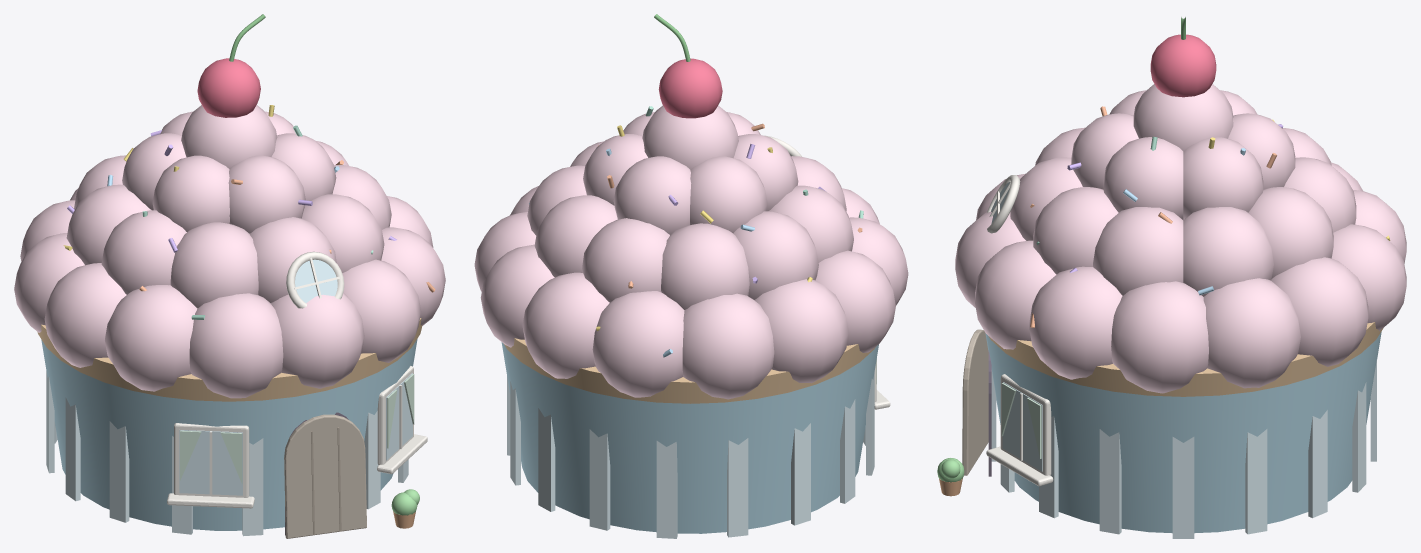
Rendered from building_sweets_L05.glb.
3 renders of one model, left to right at view 1: azimuth 30°, elevation 25°; view 2: azimuth 150°, elevation 25°; view 3: azimuth 270°, elevation 25°, orthographic. The views are drawn at different scales.
Parts seen in each view (by area): view 1: Body, sweets_L5; view 2: Body; view 3: Body, sweets_L5.
Part boxes in pixels (x1,y1,x2,y2): Body: (14,14,445,538); sweets_L5: (391,489,419,528); Body: (474,14,908,538); Body: (955,17,1406,538); sweets_L5: (937,458,964,496).
Size of the model in its own units: 14.92 by 16.71 by 15.33.
